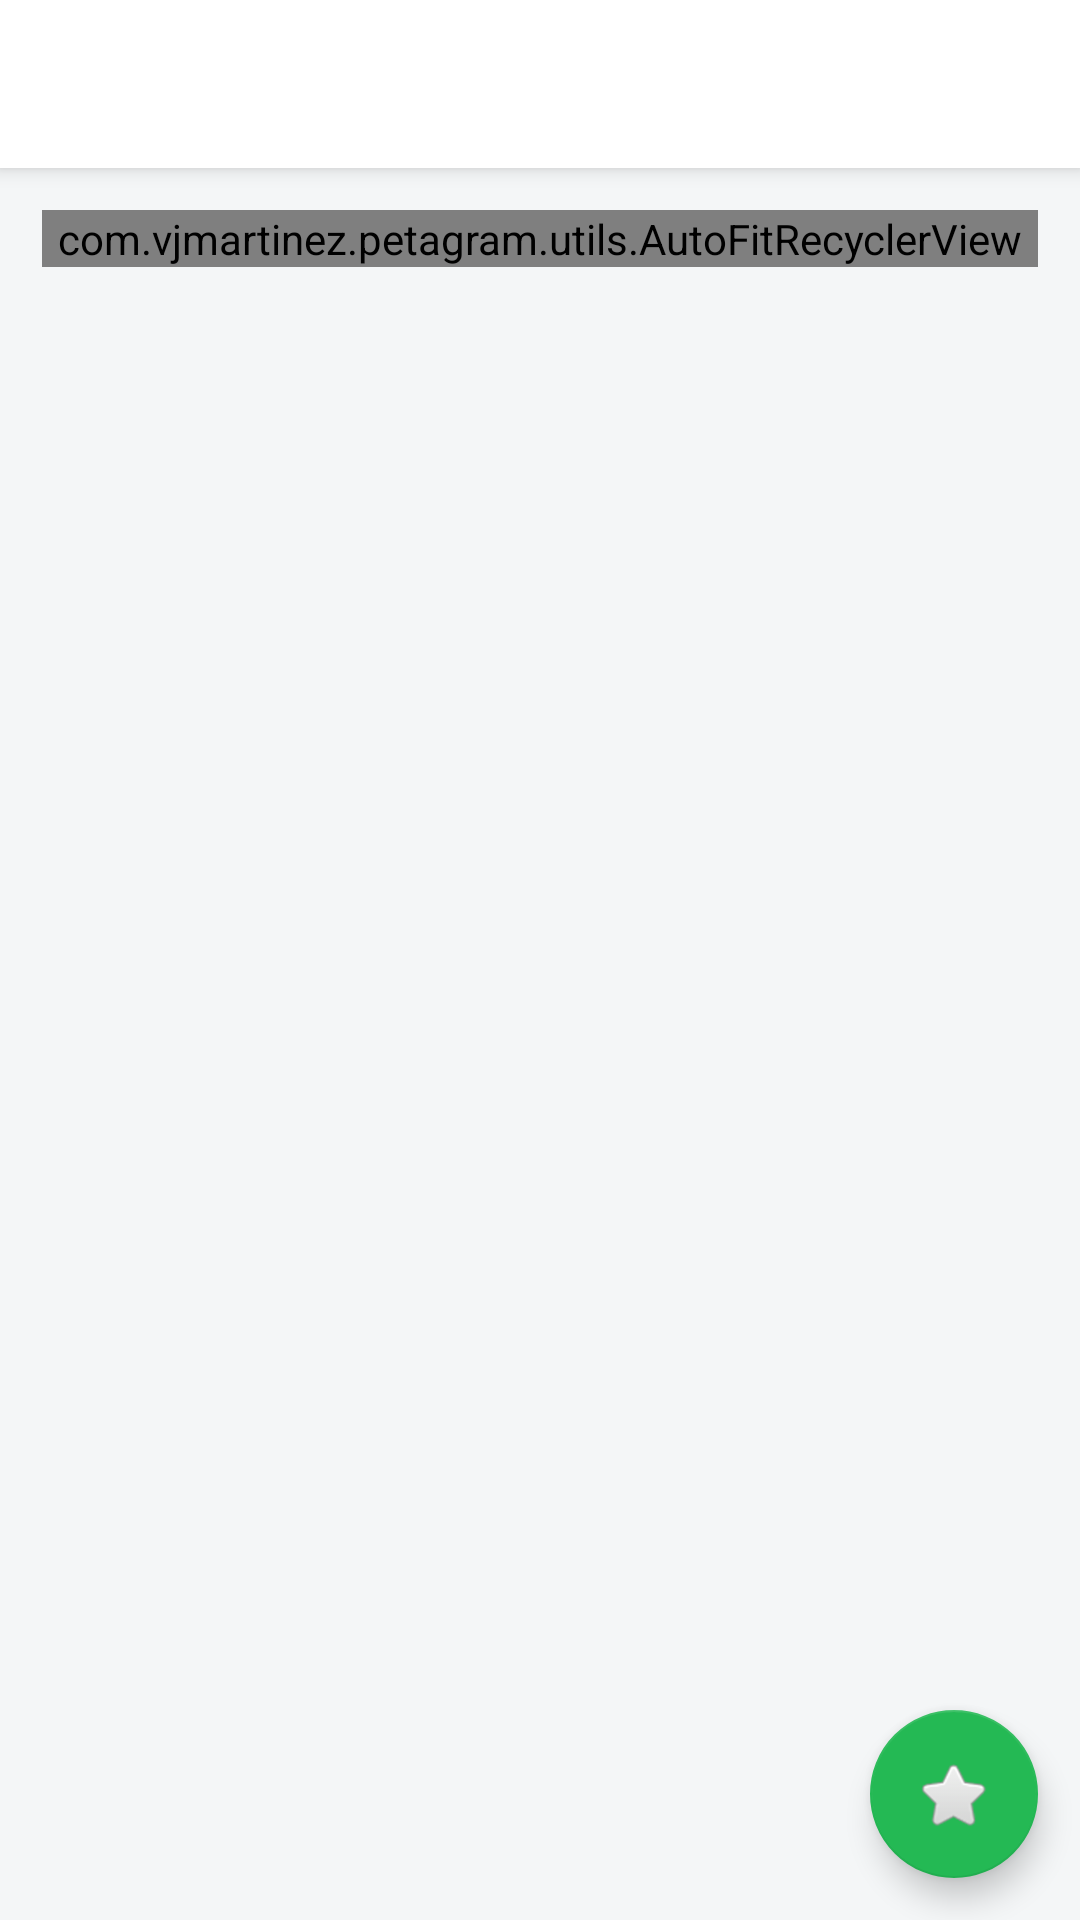

Icon bounding boxes for this 1080w x 1920h phone screenshot, format (x1, y1, x2, y2):
star: (870, 1710, 1038, 1878)
